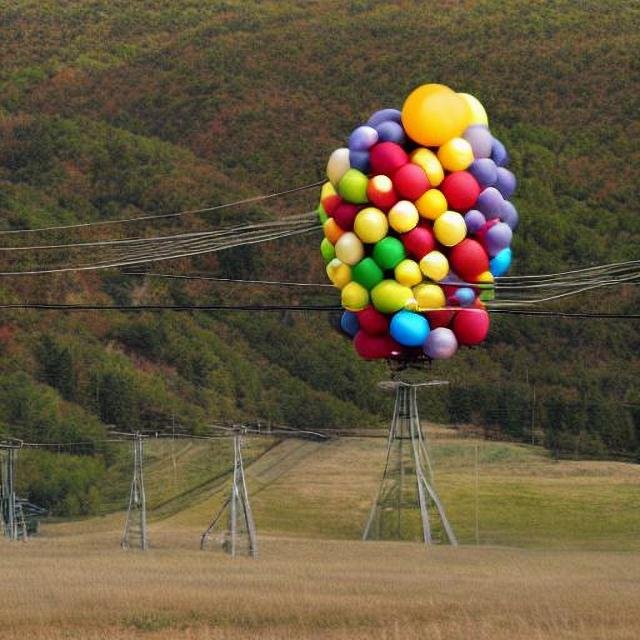balloon: (314, 75, 515, 368)
